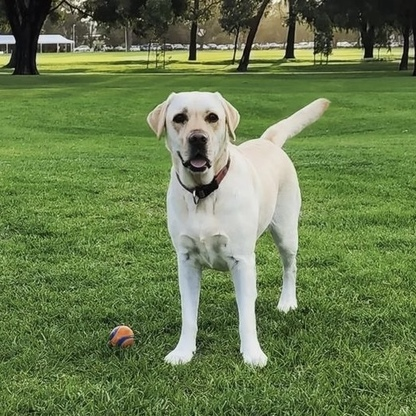labrado: (142, 87, 337, 374)
